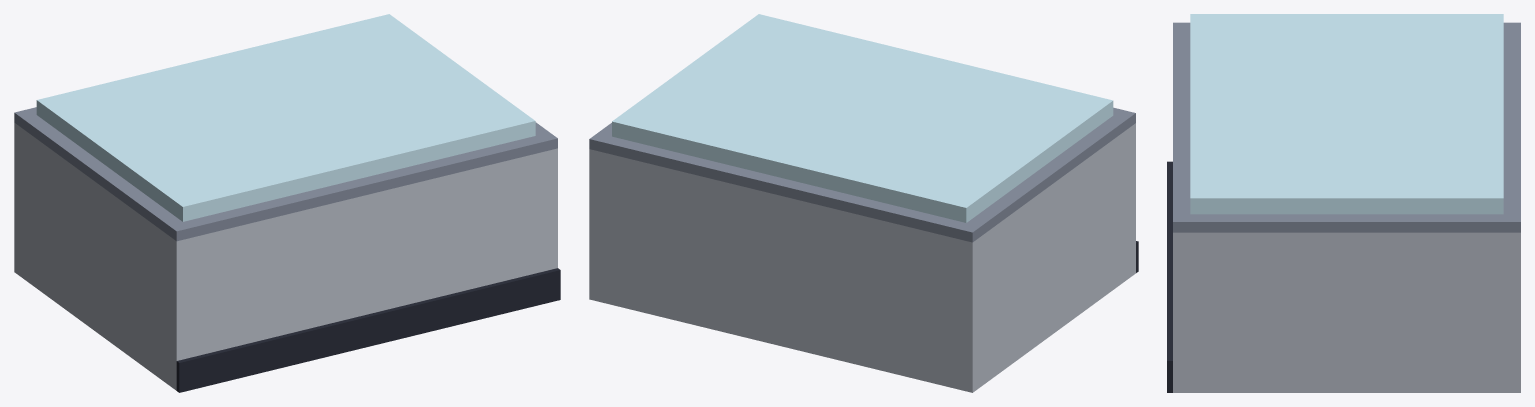
The model's file is freezer.glb.
3 views of the same model, side by side, from view 1: azimuth 30°, elevation 25°; view 2: azimuth 150°, elevation 25°; view 3: azimuth 270°, elevation 25° (orthographic). The views are drawn at different scales.
Parts seen in each view (by area): view 1: freezer; view 2: freezer; view 3: freezer.
Boxes of the visible parts, x1=… form: freezer: x1=14, y1=14, x2=560, y2=392; freezer: x1=589, y1=14, x2=1138, y2=392; freezer: x1=1167, y1=14, x2=1520, y2=392.
Size of the model in its own units: 0.8 by 0.35 by 0.6.
Materials: 1 (1 with a texture image).
